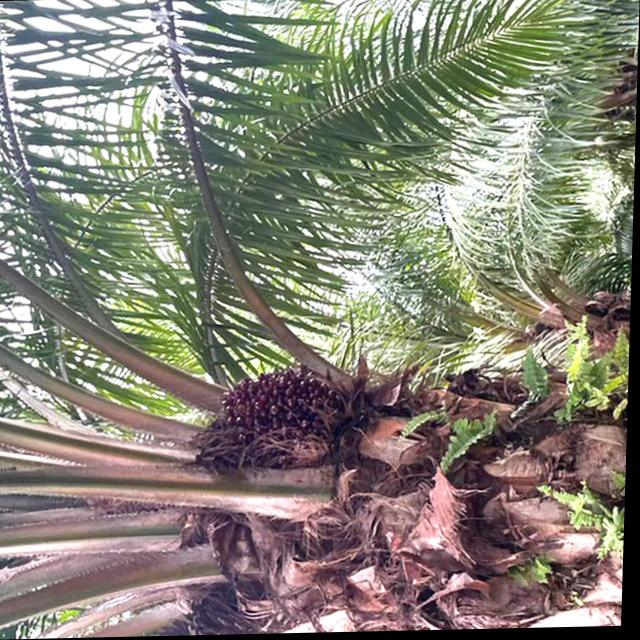ripe: (204, 357, 365, 464)
